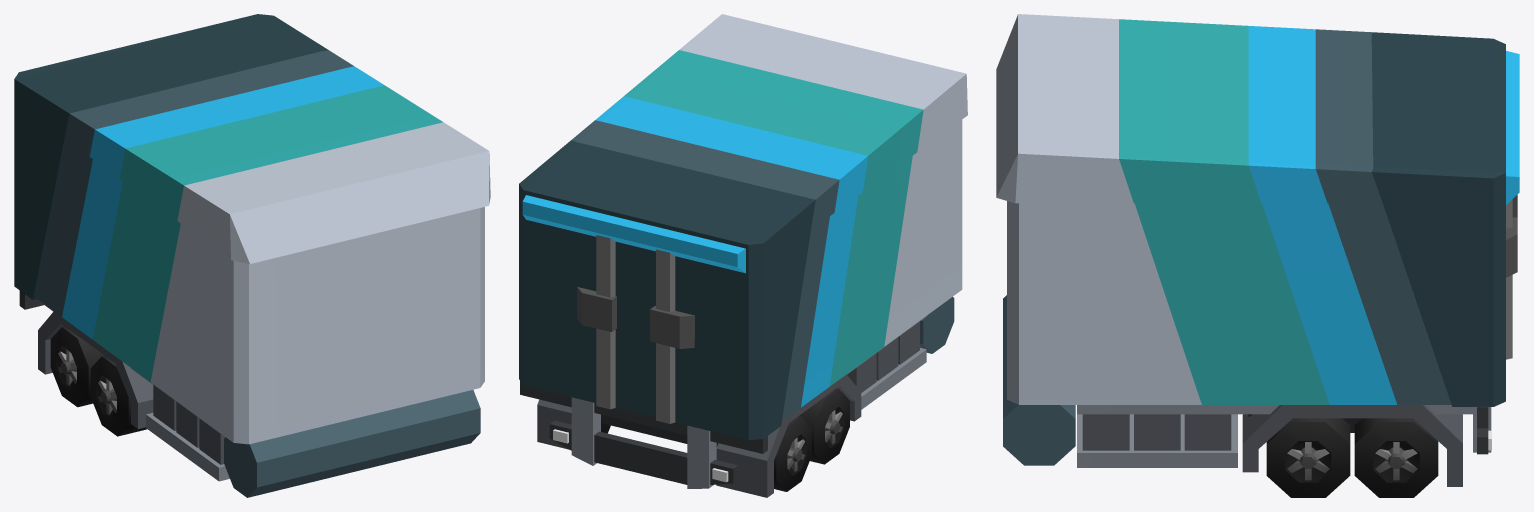
File: cargo_03_C_1.fbx
3 renders of one model, left to right at view 1: azimuth 30°, elevation 25°; view 2: azimuth 150°, elevation 25°; view 3: azimuth 270°, elevation 25°, orthographic. The views are drawn at different scales.
Parts seen in each view (by area): view 1: cargo_03_C_1; view 2: cargo_03_C_1; view 3: cargo_03_C_1.
Part boxes in pixels (x1,y1,x2,y2): cargo_03_C_1: (14, 14, 490, 497); cargo_03_C_1: (519, 14, 967, 497); cargo_03_C_1: (996, 14, 1519, 497).
Bounding box in the file's own units: 14.13 × 16.34 × 22.26.
